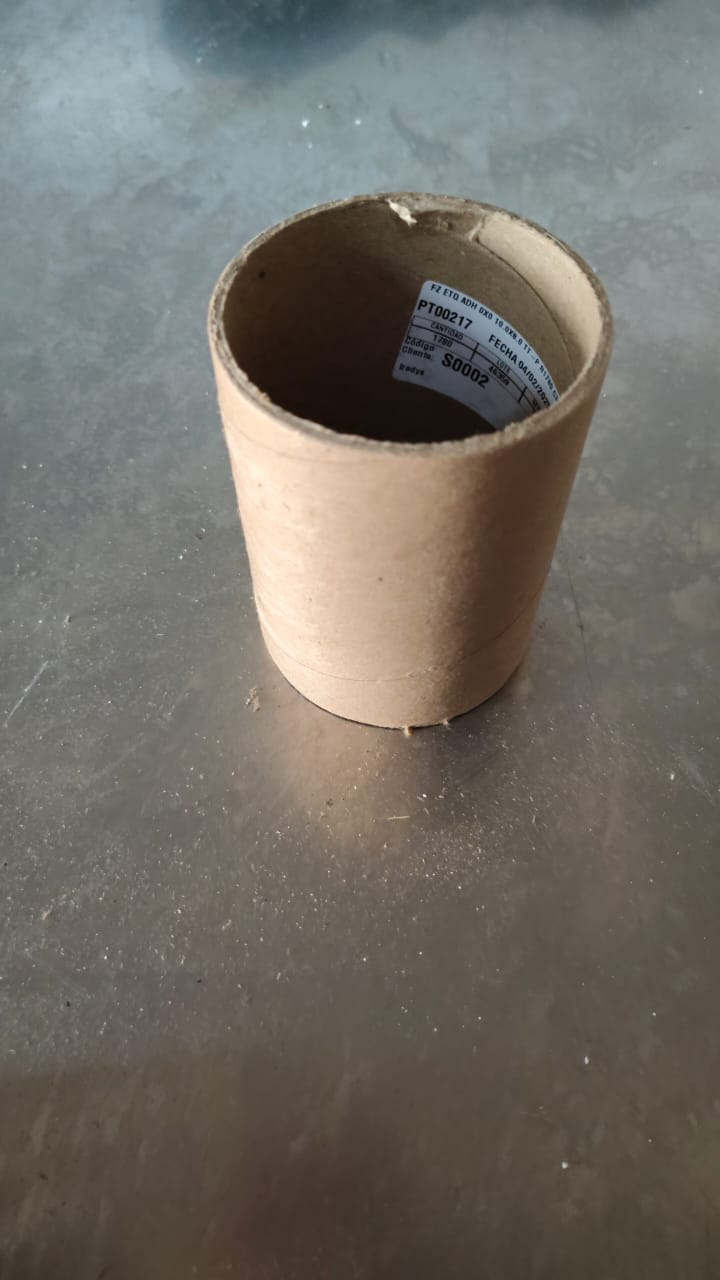Carton: (205, 195, 614, 732)
